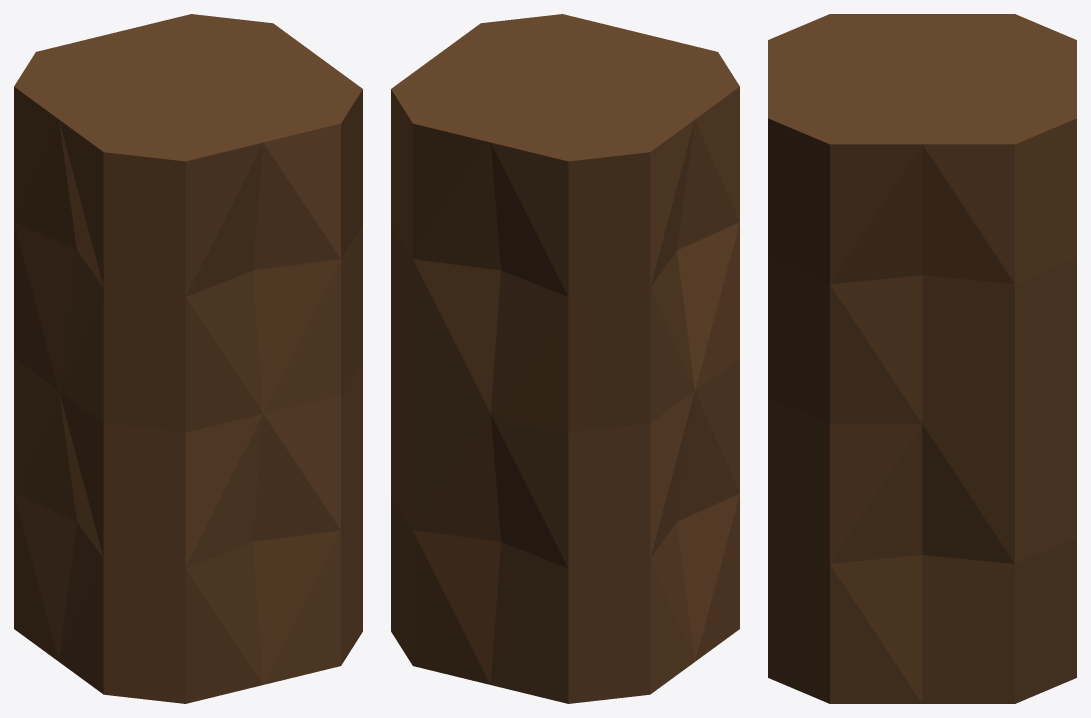
Rendered from Section_1.glb.
The picture shows the model from 3 angles, left to right: view 1: azimuth 30°, elevation 25°; view 2: azimuth 150°, elevation 25°; view 3: azimuth 270°, elevation 25°; orthographic projection. The views are drawn at different scales.
Parts seen in each view (by area): view 1: Section; view 2: Section; view 3: Section.
Part boxes in pixels (x1,y1,x2,y2): Section: (14,14,362,703); Section: (391,14,739,703); Section: (768,14,1076,703).
Bounding box in the file's own units: 2 × 4 × 2.
